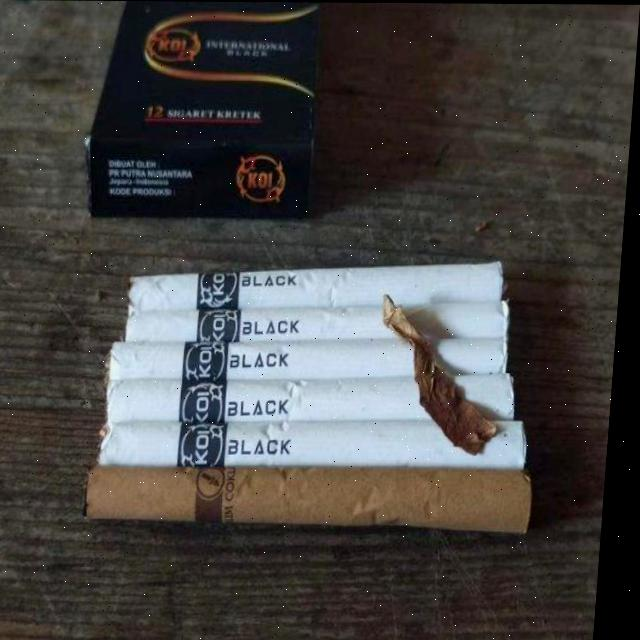cigarette: (89, 465, 541, 533), (106, 370, 519, 426), (130, 259, 511, 317), (98, 417, 534, 467), (108, 335, 515, 383), (130, 296, 517, 344)
